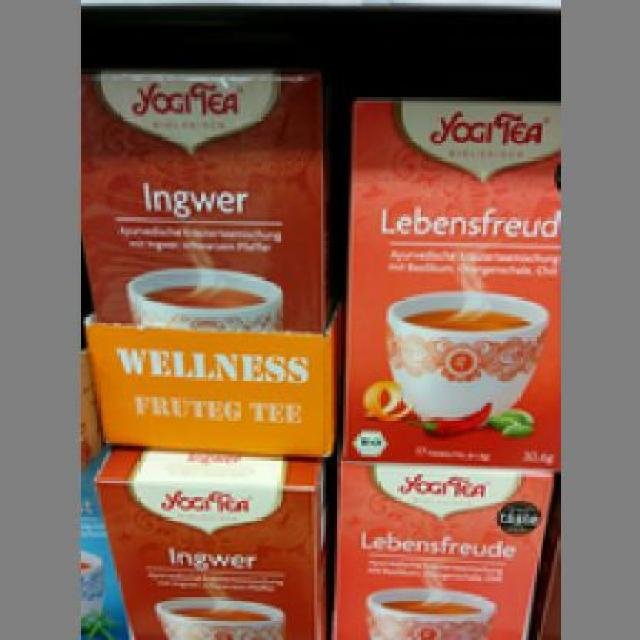Tea: (343, 86, 557, 468), (76, 66, 330, 332), (90, 442, 327, 638), (326, 452, 557, 638)
